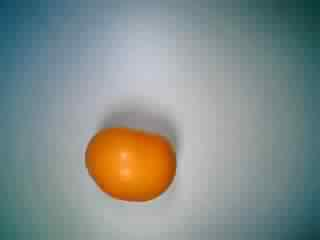orange: (84, 120, 179, 214)
